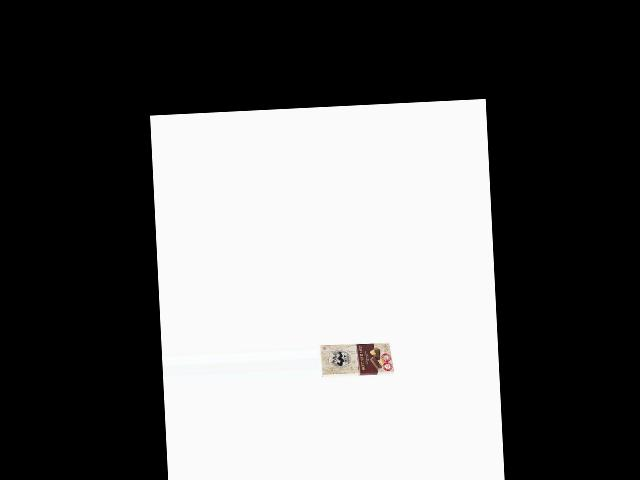chocolate: (320, 340, 395, 383)
